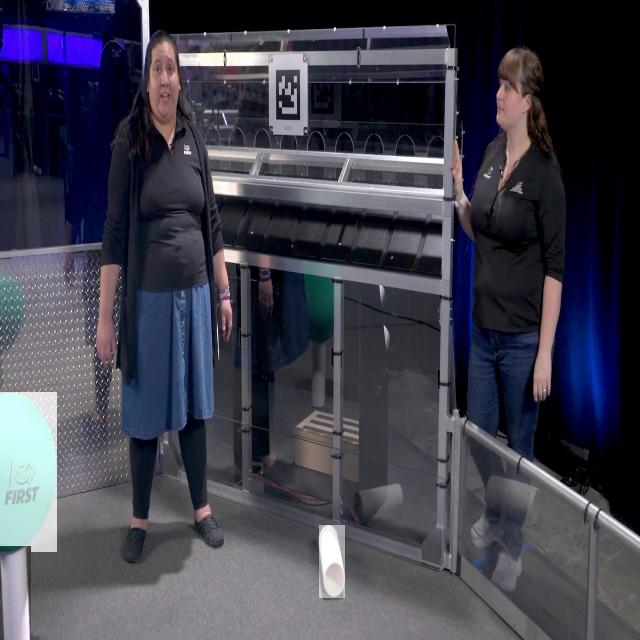Algae: (0, 392, 57, 552)
Coral: (0, 546, 31, 640), (319, 525, 345, 598)
